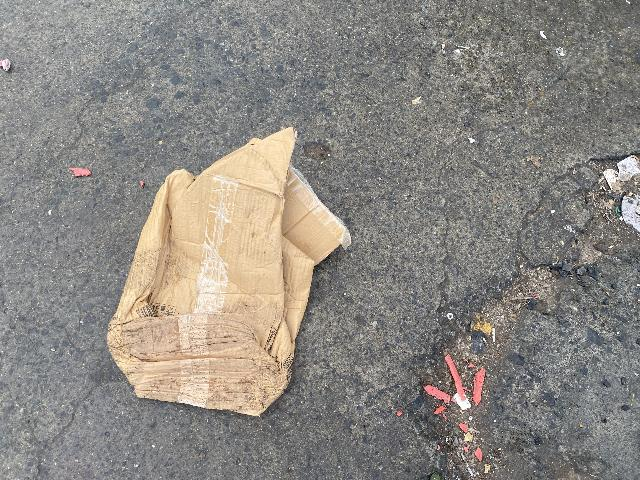Kagit: (103, 111, 362, 411)
